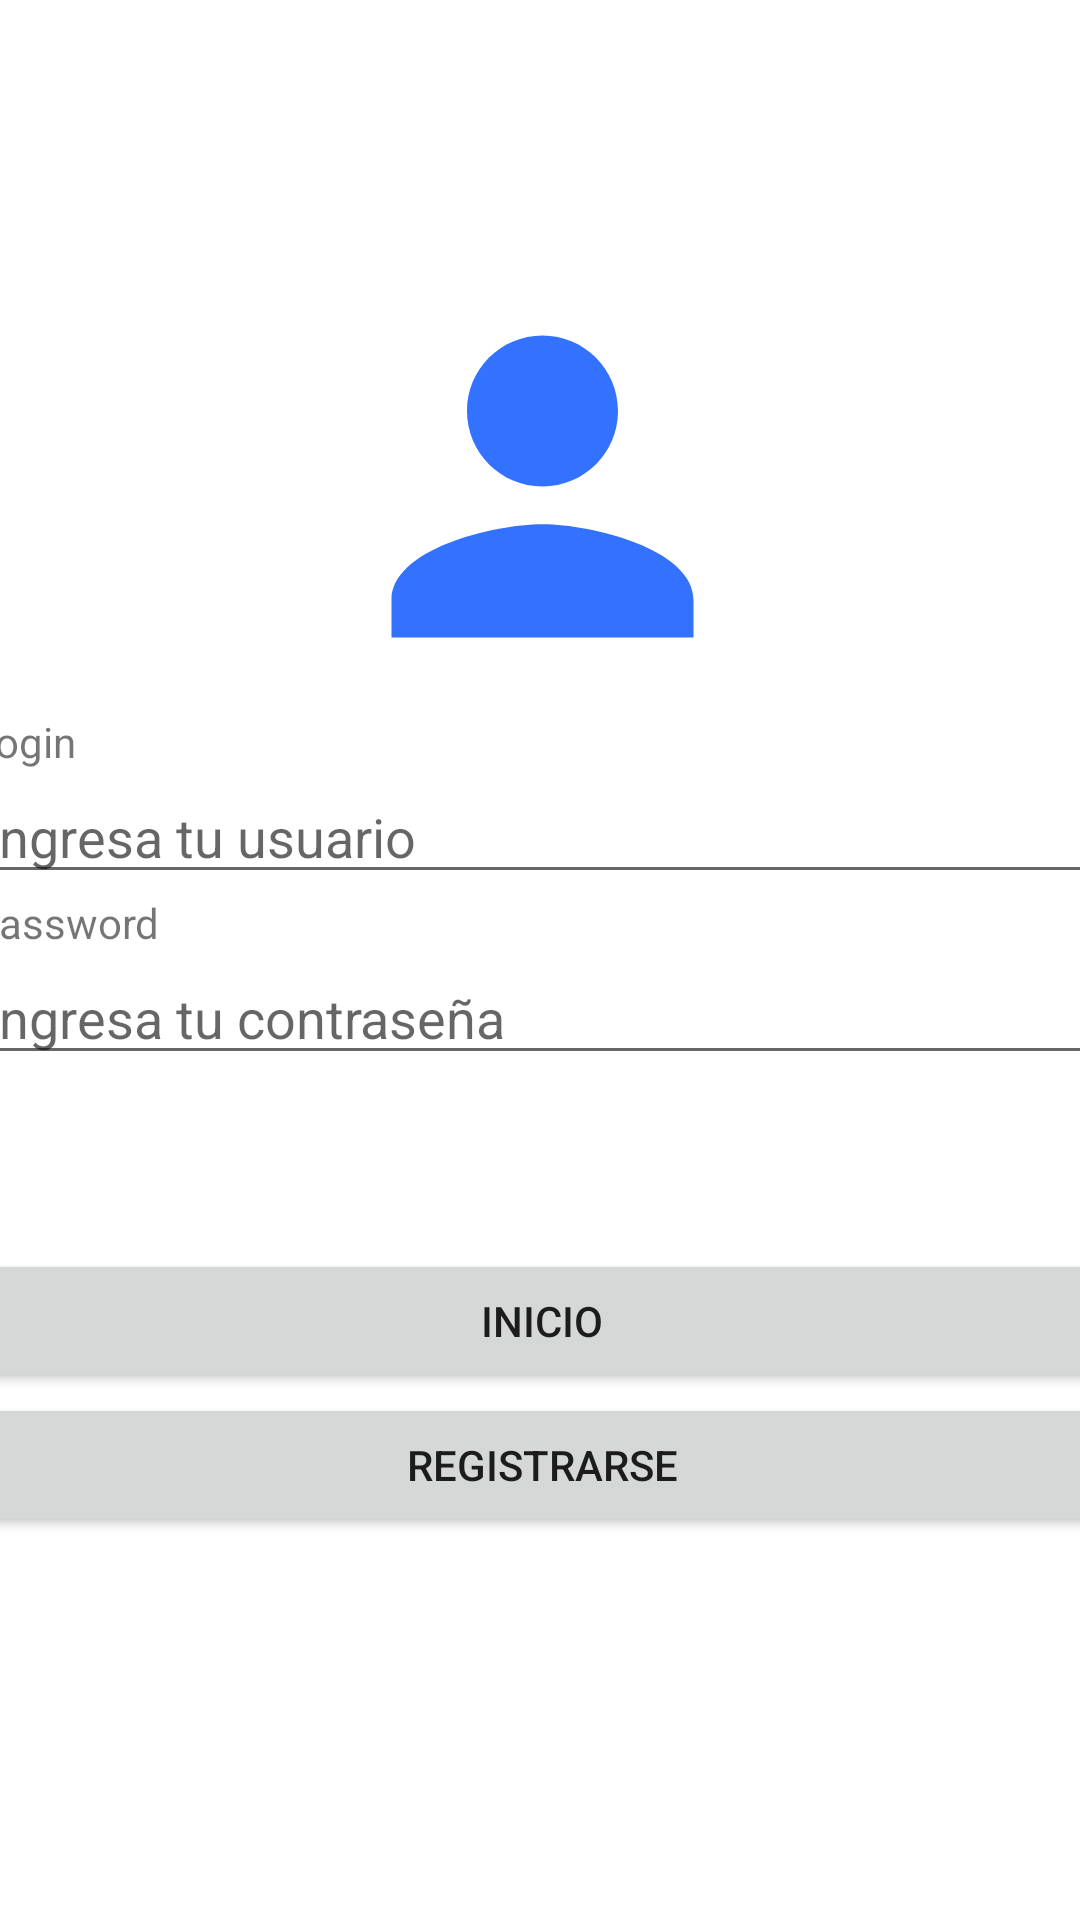

Named icons in this screenshot (1080px×1920px) and their centers, (x=x, y=y):
person: (x=542, y=486)
